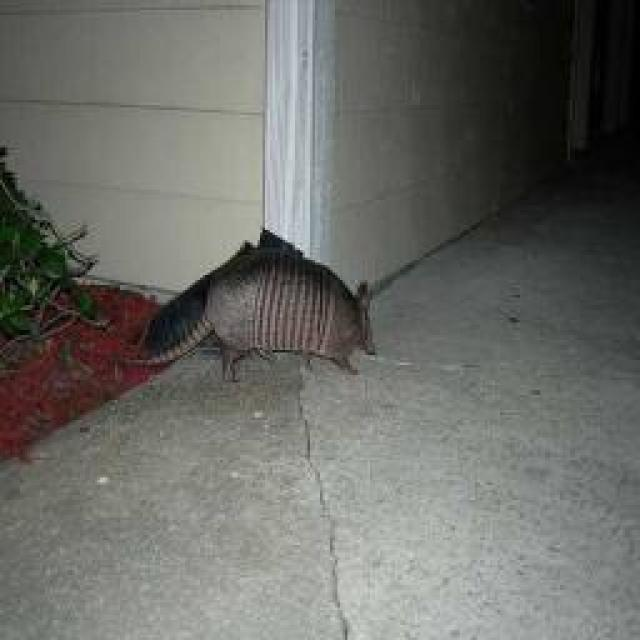not_pig: (130, 232, 378, 382)
